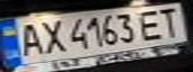1: (84, 14, 106, 48)
3: (115, 11, 139, 45)
4: (66, 15, 87, 51)
6: (100, 11, 124, 46)
A: (12, 20, 45, 57)
E: (136, 7, 169, 42)
T: (154, 4, 187, 38)
X: (36, 17, 66, 55)
